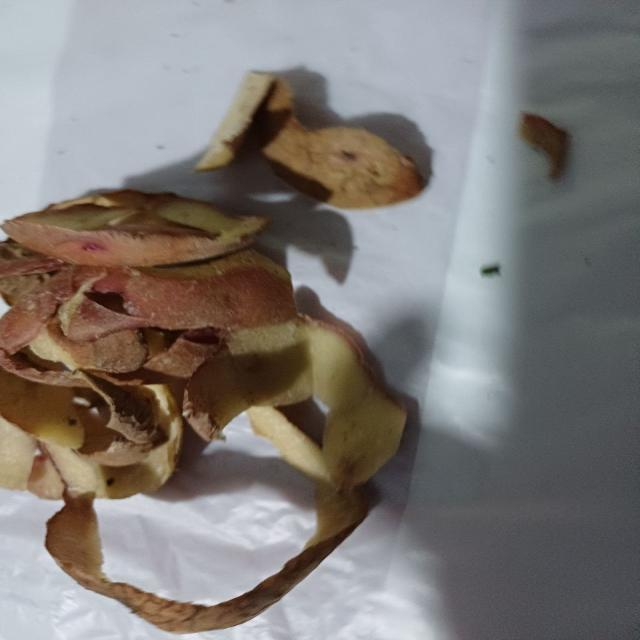organic: (1, 71, 417, 631)
